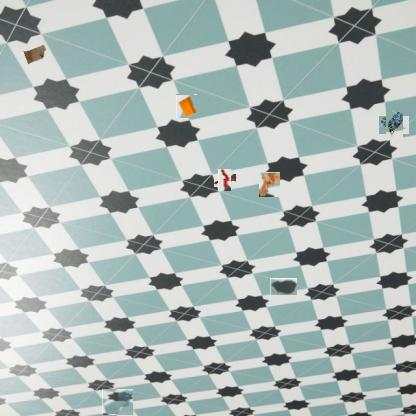dirty: (21, 42, 49, 66), (382, 113, 406, 137), (258, 172, 280, 197), (176, 94, 197, 118), (216, 172, 234, 189)
liquid: (102, 389, 133, 415), (270, 278, 297, 295)
